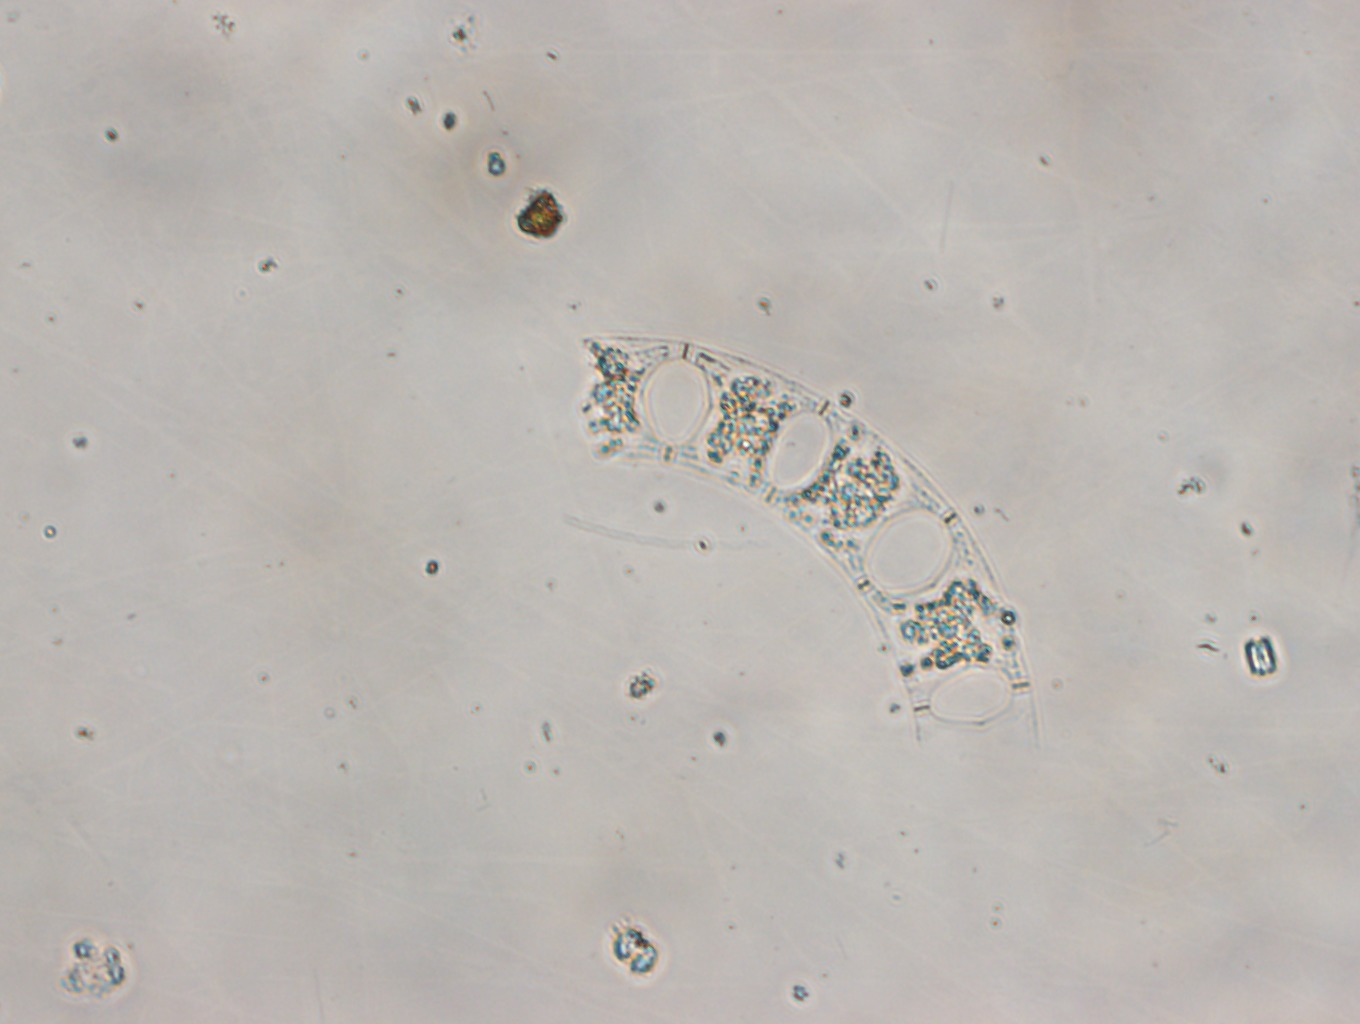eucampia: (573, 335, 1037, 768)
